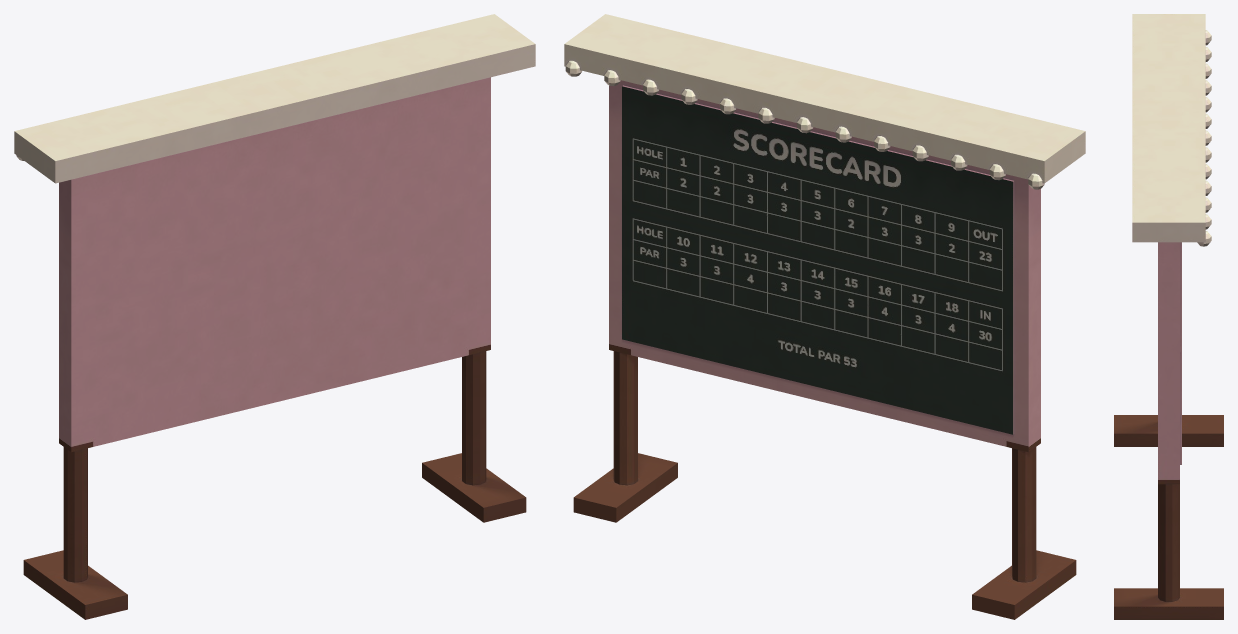
Rendered from scoreboard.glb.
3 renders of one model, left to right at view 1: azimuth 30°, elevation 25°; view 2: azimuth 150°, elevation 25°; view 3: azimuth 270°, elevation 25°, orthographic. The views are drawn at different scales.
Visible parts, largest first — view 1: Scoreboard; view 2: Scoreboard; view 3: Scoreboard.
Boxes of the visible parts, <box> form: Scoreboard: <box>14,14,535,619</box>; Scoreboard: <box>564,14,1085,619</box>; Scoreboard: <box>1114,14,1223,619</box>.
Size of what is drawn, in the model's own units: 2.7 by 2.45 by 0.6.
Materials: 1 (1 with a texture image).
